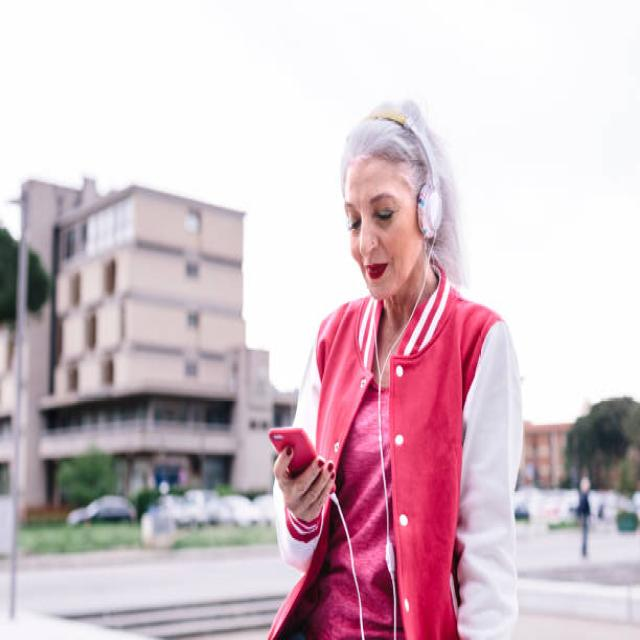Headphone: (358, 106, 444, 242)
